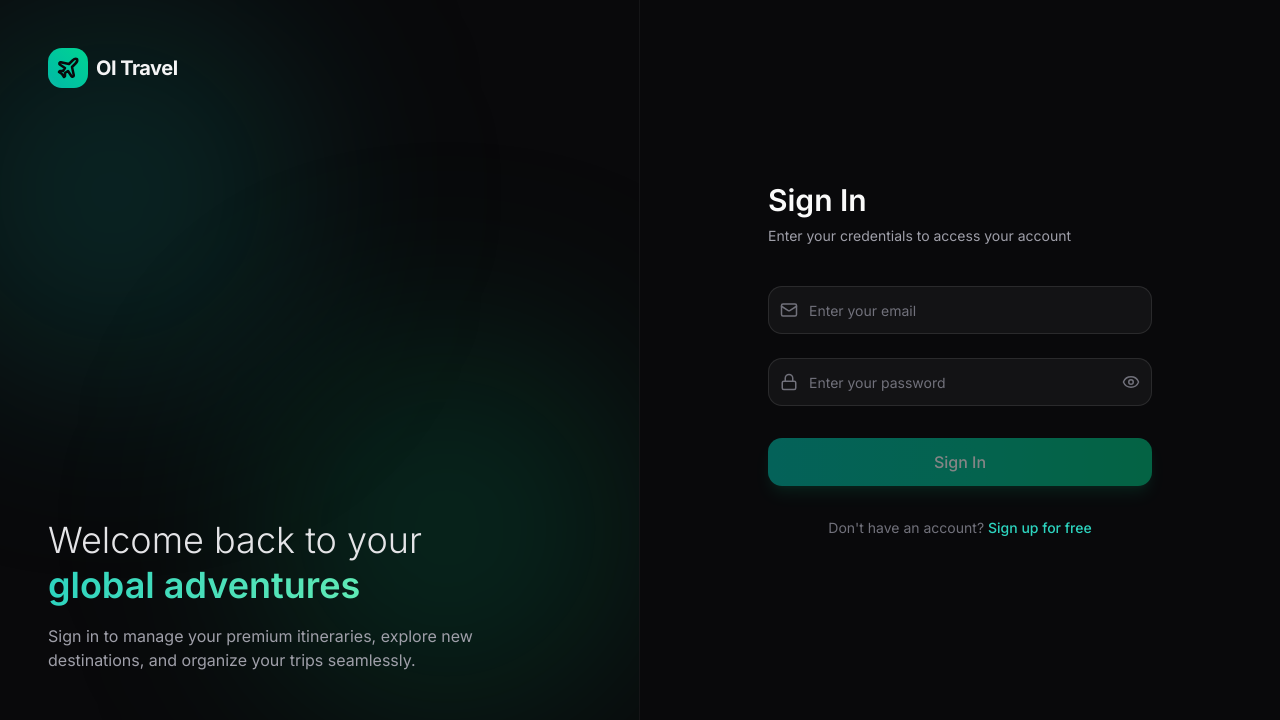
Test: LoginPage › disables the submit button if inputs are empty
Expected: the button with test id "login-submit-button" is disabled, [768,438,1152,486]
Fill only email, still disabled
Type "test@example.com" into the field with test id "login-email-input".
click(960, 310); type("test@example.com")  # box [768,286,1152,334]
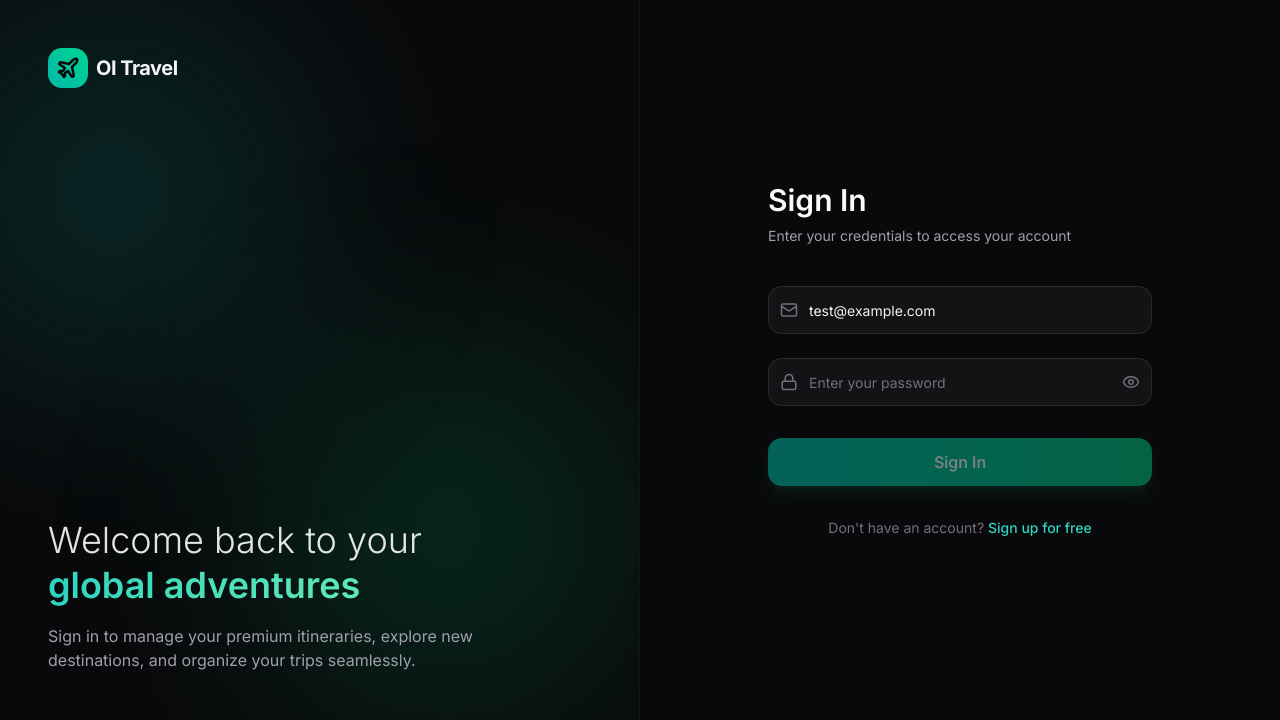
Expected: the button with test id "login-submit-button" is disabled, [768,438,1152,486]
Fill both, should be enabled
Type "password123" into the password field with test id "login-password-input".
click(960, 382); type("password123")  # box [768,358,1152,406]
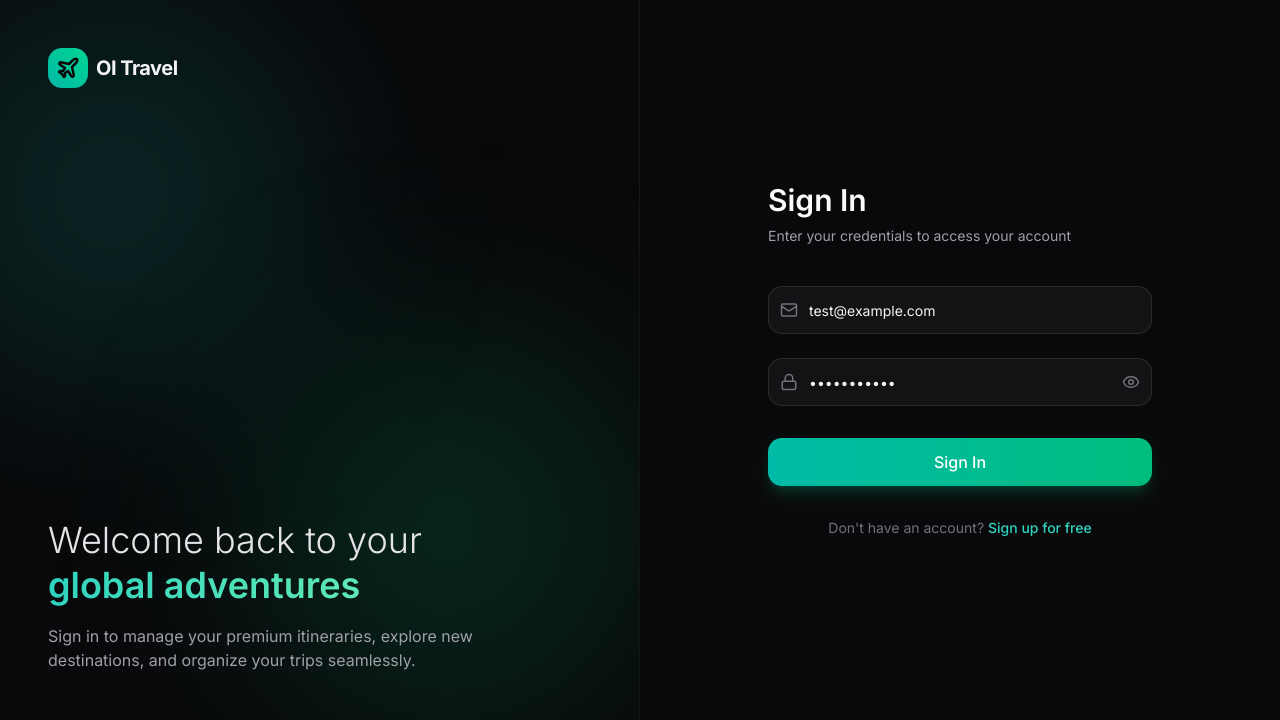
Expected: the button with test id "login-submit-button" is enabled, [768,438,1152,486]
